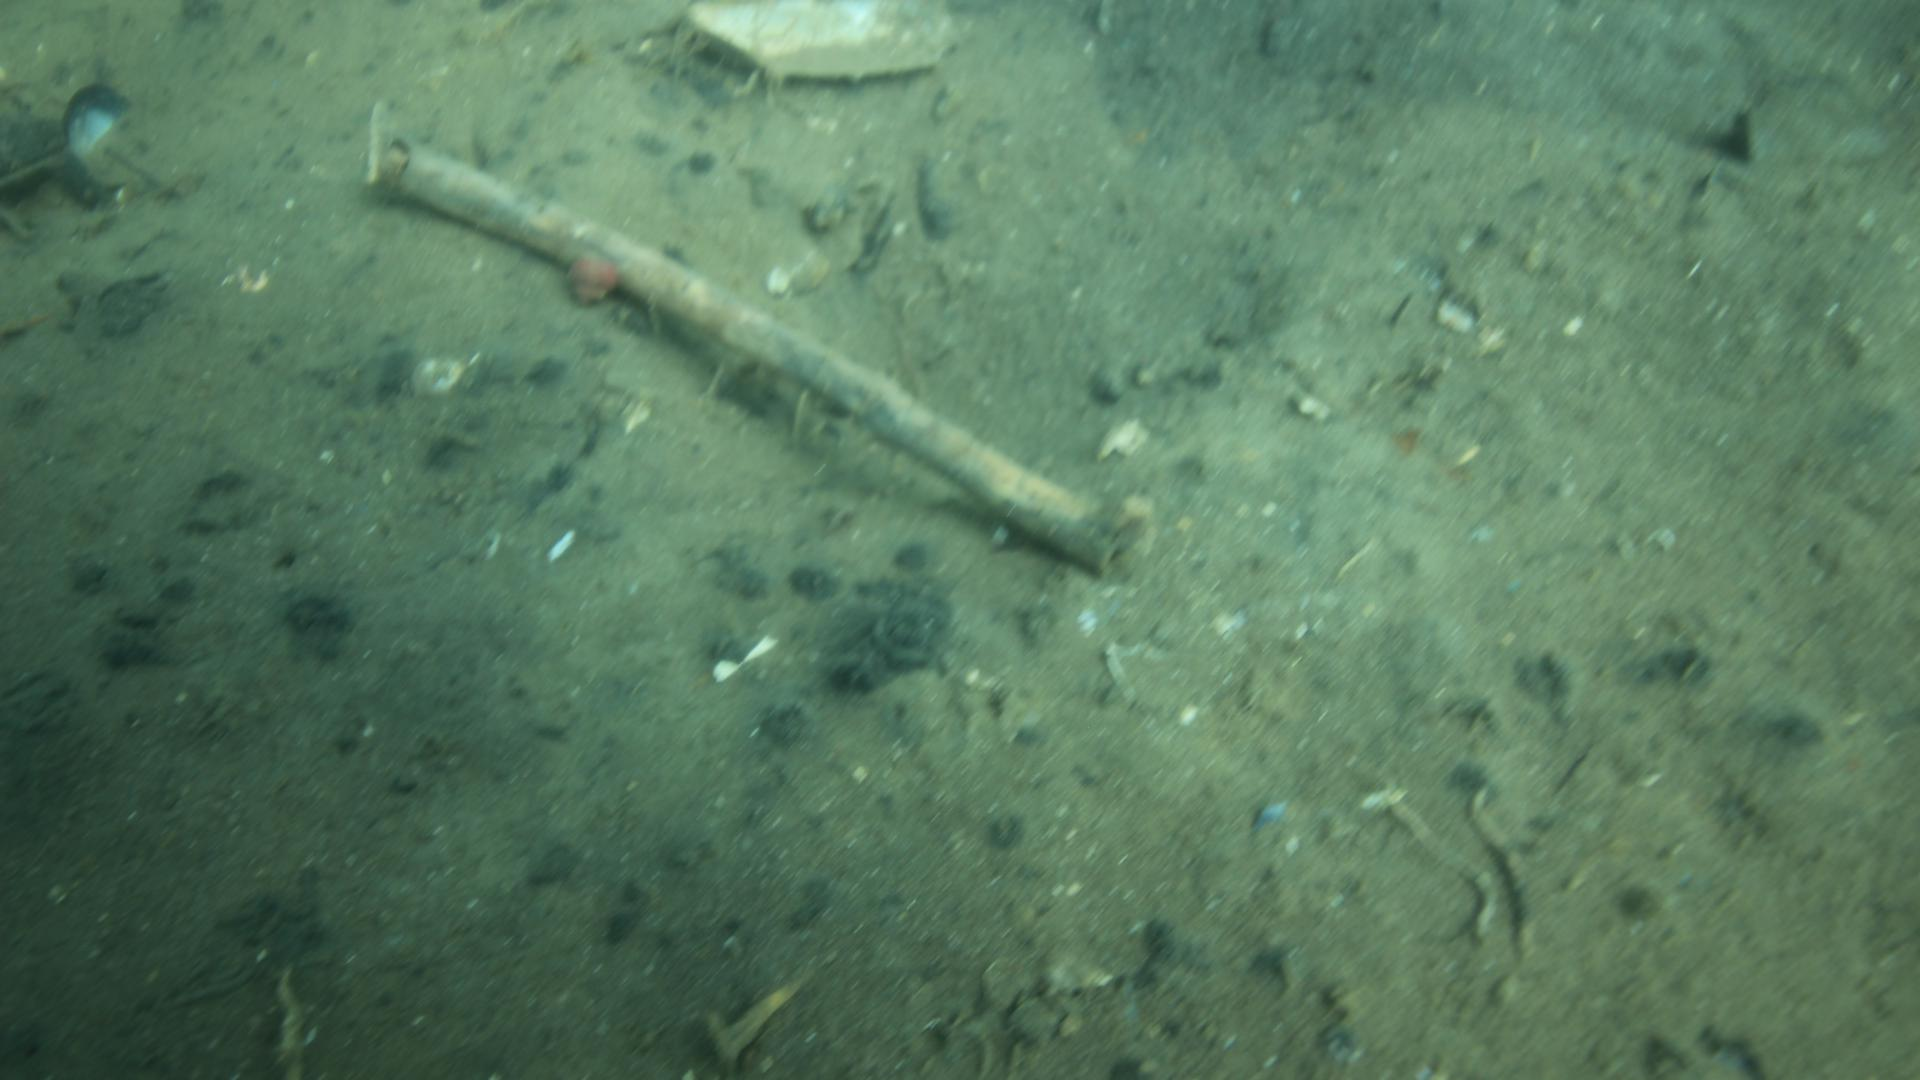wood: (384, 140, 1104, 556)
